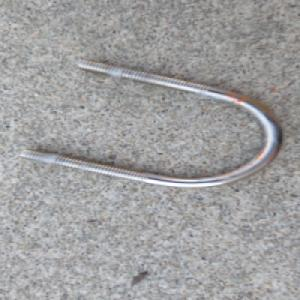ClampPart: (18, 57, 285, 189)
